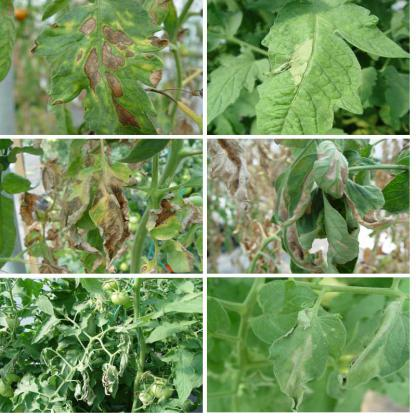tomato leaf bacterial spot: (40, 3, 166, 130)
